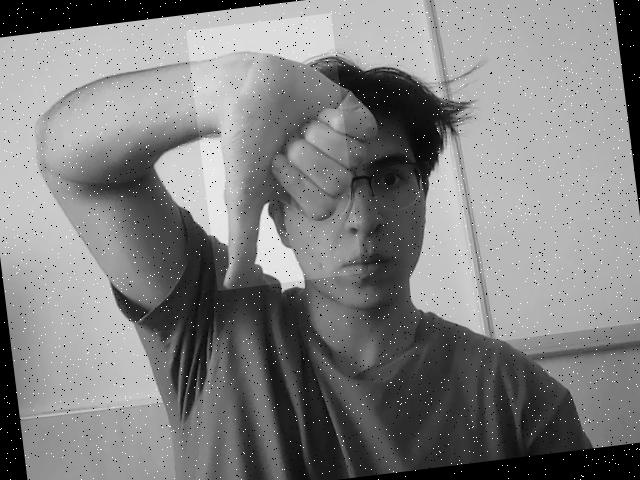bad: (185, 14, 362, 290)
